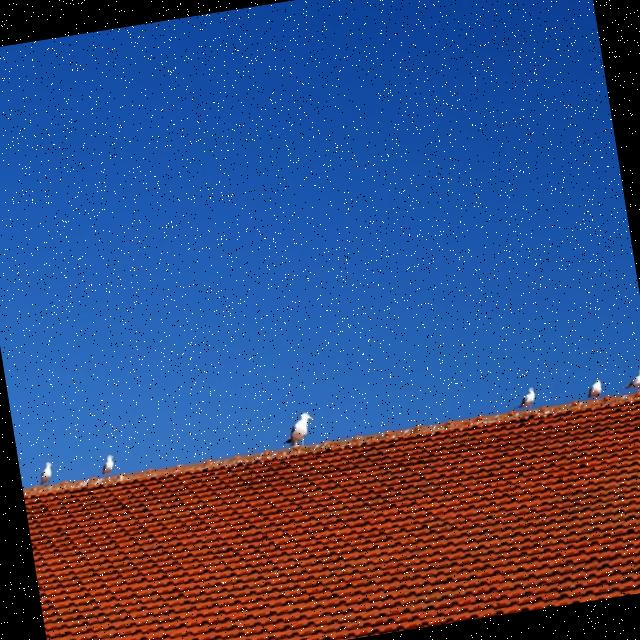bird: (278, 409, 320, 452), (508, 386, 540, 414), (619, 366, 640, 396), (36, 460, 56, 486), (584, 377, 604, 400), (98, 453, 118, 476)
